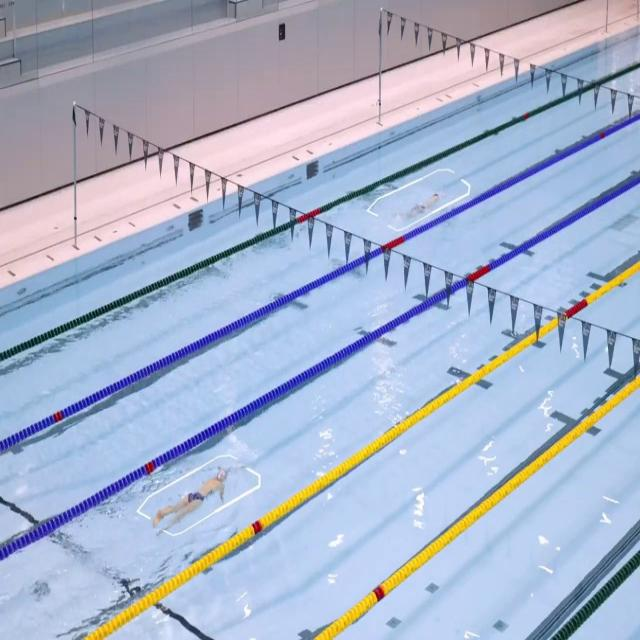Swimming: (154, 460, 242, 535), (394, 192, 445, 221)
